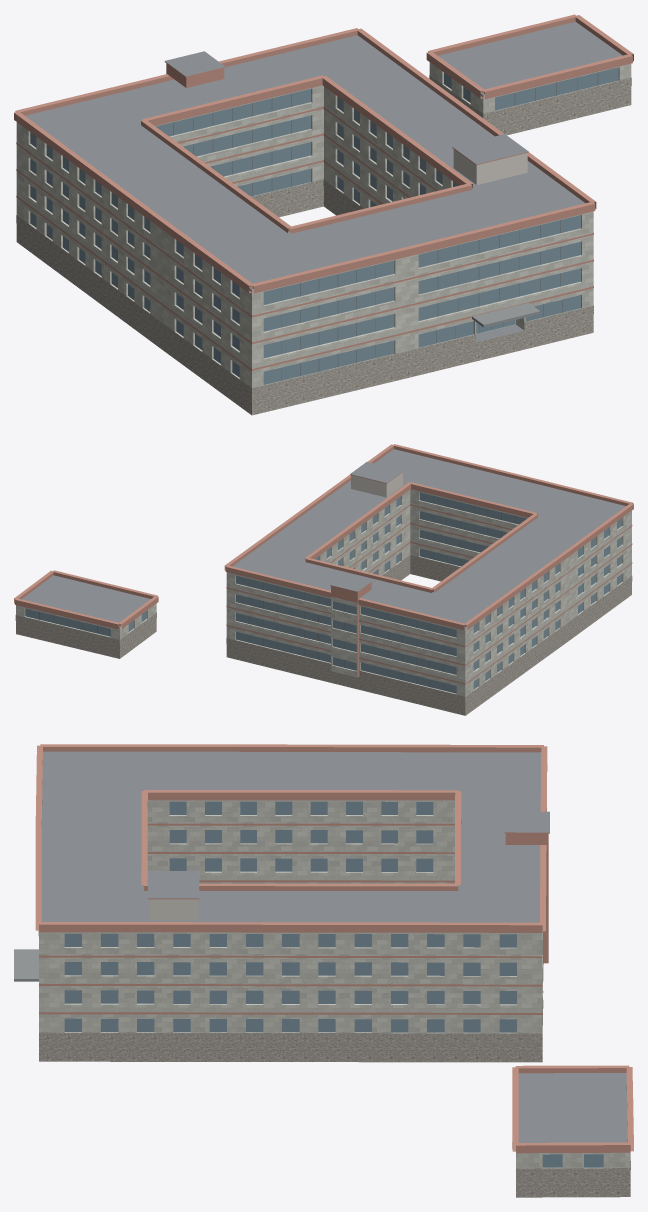
3 renders of one model, top to bottom at view 1: azimuth 30°, elevation 25°; view 2: azimuth 150°, elevation 25°; view 3: azimuth 270°, elevation 25°, orthographic. The views are drawn at different scales.
Visible parts, largest first — view 1: areumGwanN19__roof, areumGwanN19__wall, areumGwanN19__glass, areumGwanN19__trim, areumGwanN19__base, areumGwanN19__wall2, areumGwanN19__frame, areumGwanN19__canopy; view 2: areumGwanN19__wall, areumGwanN19__roof, areumGwanN19__trim, areumGwanN19__glass, areumGwanN19__base, areumGwanN19__wall2, areumGwanN19__frame; view 3: areumGwanN19__roof, areumGwanN19__wall, areumGwanN19__trim, areumGwanN19__glass, areumGwanN19__base, areumGwanN19__wall2, areumGwanN19__canopy.
Part boxes in pixels (box(x1,y1,x2,y2)): areumGwanN19__roof: box(25, 21, 622, 342); areumGwanN19__wall: box(16, 62, 631, 395); areumGwanN19__glass: box(30, 67, 618, 384); areumGwanN19__trim: box(14, 14, 633, 370); areumGwanN19__base: box(16, 75, 631, 415); areumGwanN19__wall2: box(453, 149, 527, 184); areumGwanN19__frame: box(173, 72, 598, 380); areumGwanN19__canopy: box(472, 302, 540, 327); areumGwanN19__wall: box(16, 489, 631, 702); areumGwanN19__roof: box(22, 449, 625, 627); areumGwanN19__trim: box(14, 444, 633, 684); areumGwanN19__glass: box(25, 492, 621, 693); areumGwanN19__base: box(15, 555, 632, 715); areumGwanN19__wall2: box(351, 472, 402, 497); areumGwanN19__frame: box(39, 496, 515, 690); areumGwanN19__roof: box(41, 751, 627, 1142); areumGwanN19__wall: box(39, 800, 630, 1168); areumGwanN19__trim: box(35, 744, 633, 1153); areumGwanN19__glass: box(64, 801, 603, 1167); areumGwanN19__base: box(38, 931, 630, 1197); areumGwanN19__wall2: box(149, 899, 198, 920); areumGwanN19__canopy: box(14, 949, 38, 981).
Size of the model in its own units: 83.59 by 19.3 by 69.3.
9 materials, 2 textured.
